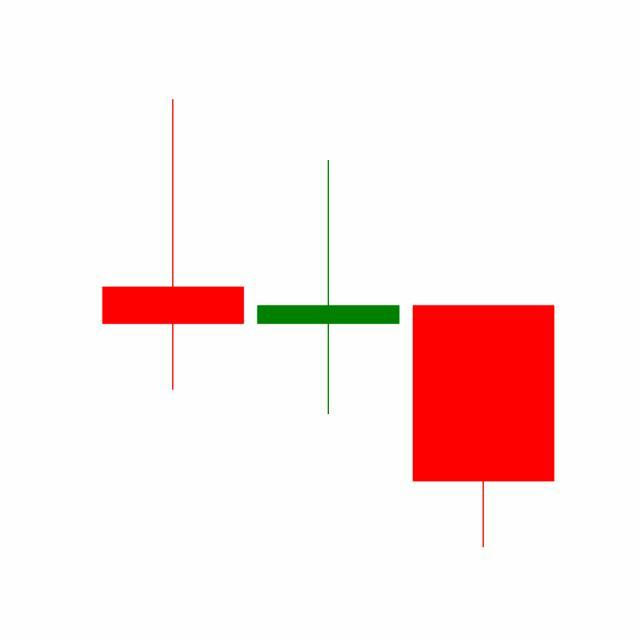Spinning Top: (250, 157, 407, 418)
